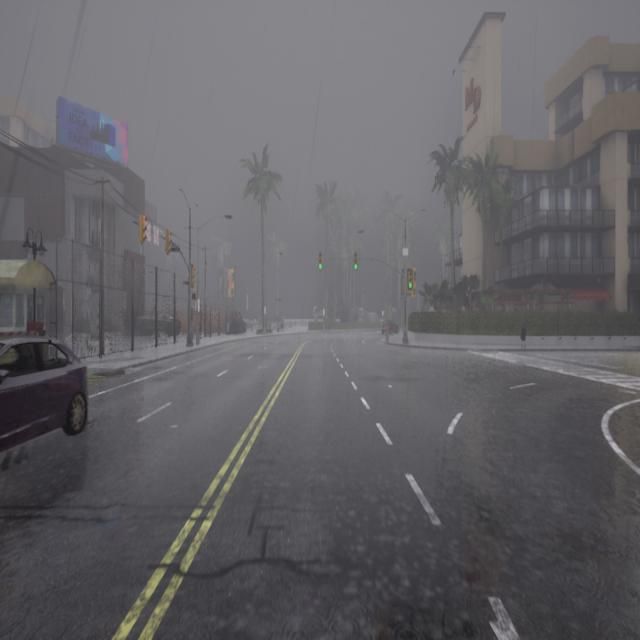6: (138, 213, 148, 226), (164, 226, 173, 238), (190, 261, 196, 273)
9: (404, 266, 417, 299), (140, 213, 148, 245), (164, 227, 172, 254), (189, 262, 196, 289), (317, 251, 324, 272), (353, 250, 358, 274)
bien_hieu_lenh: (314, 265, 324, 273), (405, 281, 413, 291), (350, 265, 360, 272)
